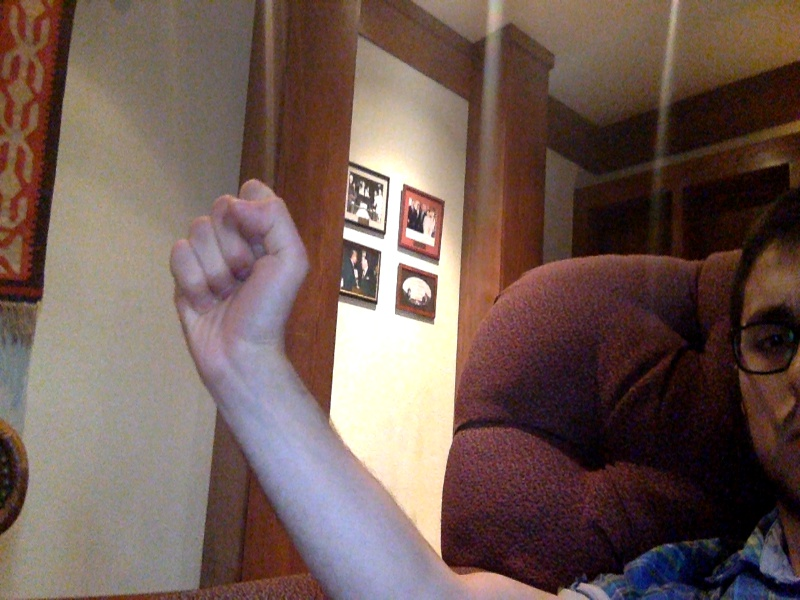0-hand: (169, 177, 312, 394)
